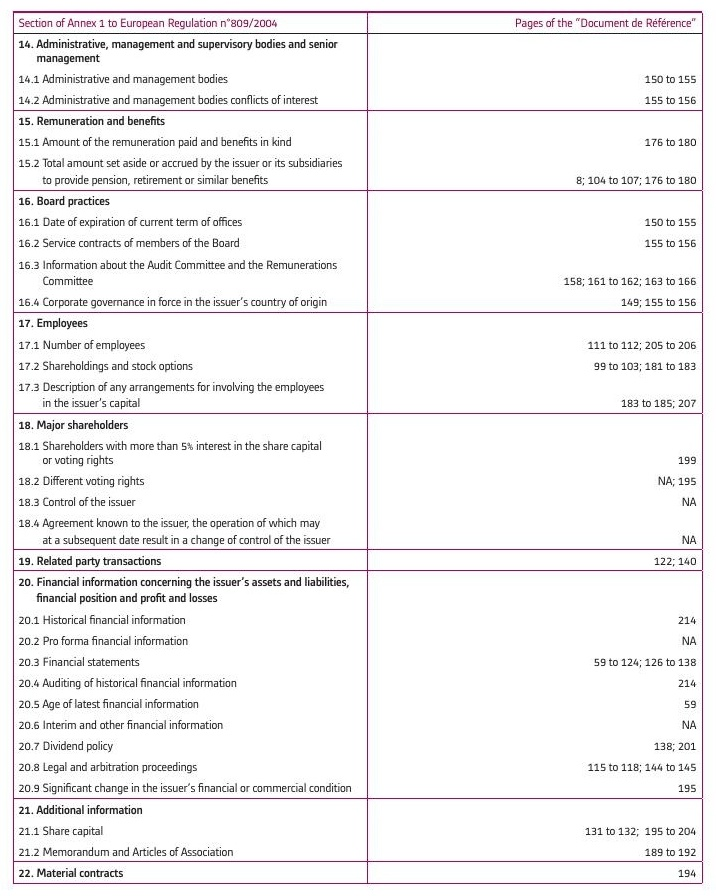table: (0, 0, 716, 896)
